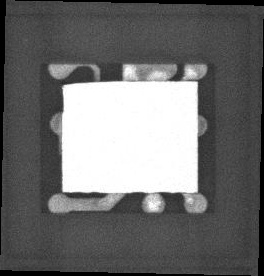DIE_BROKEN: (59, 88, 65, 113)
